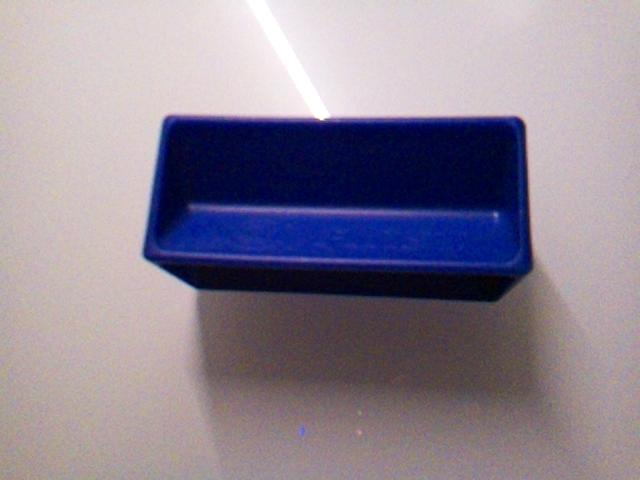blue: (142, 111, 535, 303)
